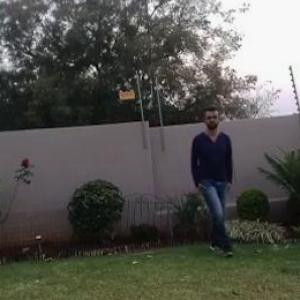follow: (197, 102, 240, 256)
